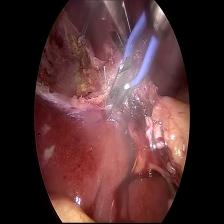Bipolar: (101, 17, 166, 124)
Grasper: (92, 0, 132, 55)
